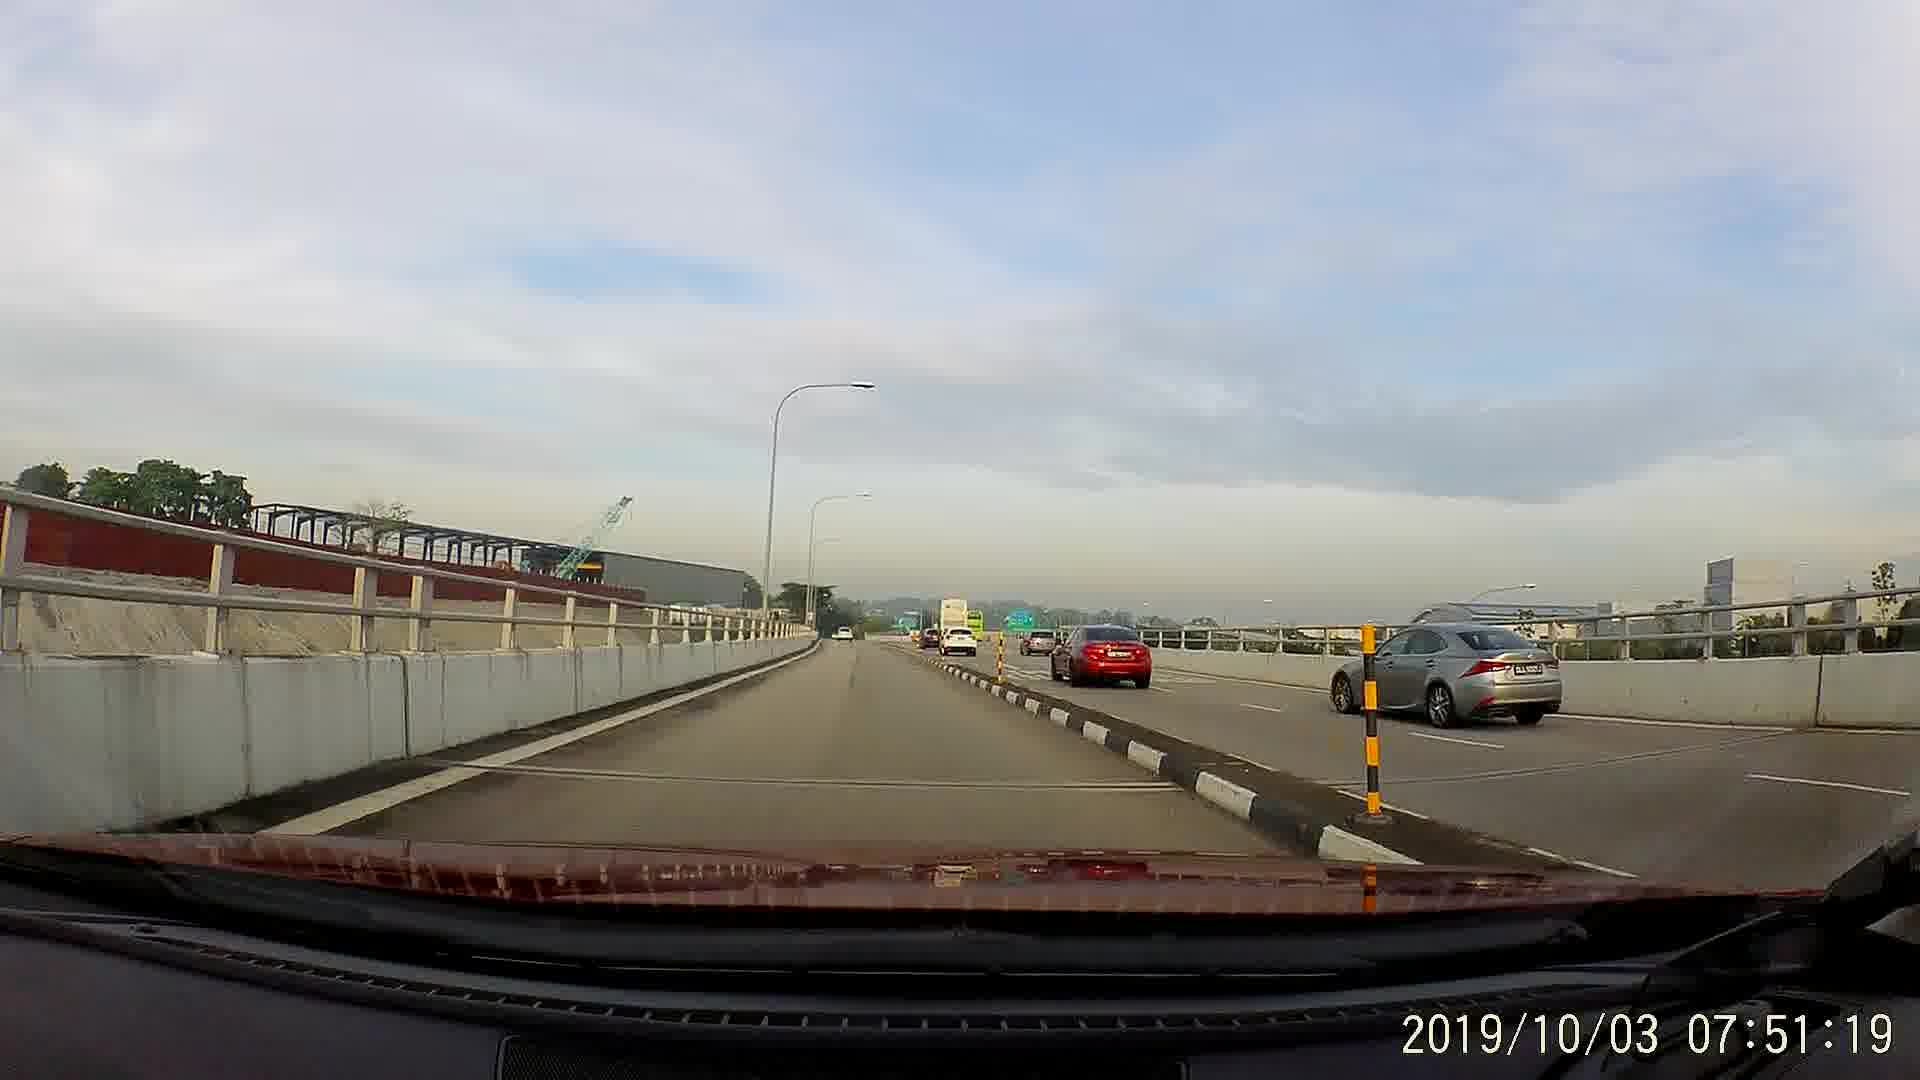car: (1329, 622, 1563, 731), (1048, 617, 1156, 696), (936, 624, 976, 659), (1019, 629, 1062, 658), (916, 625, 945, 649), (828, 622, 856, 644)
